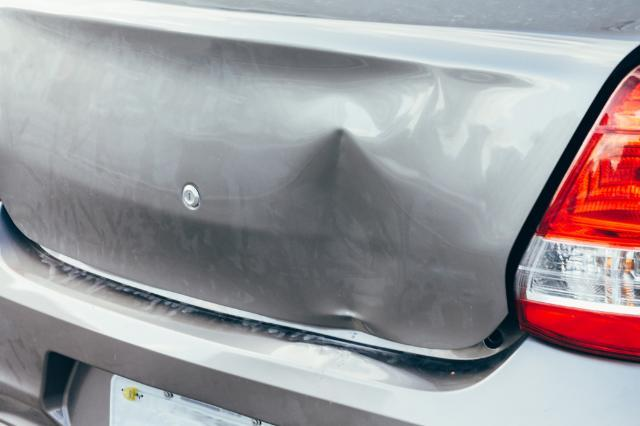dent: (275, 128, 407, 335)
